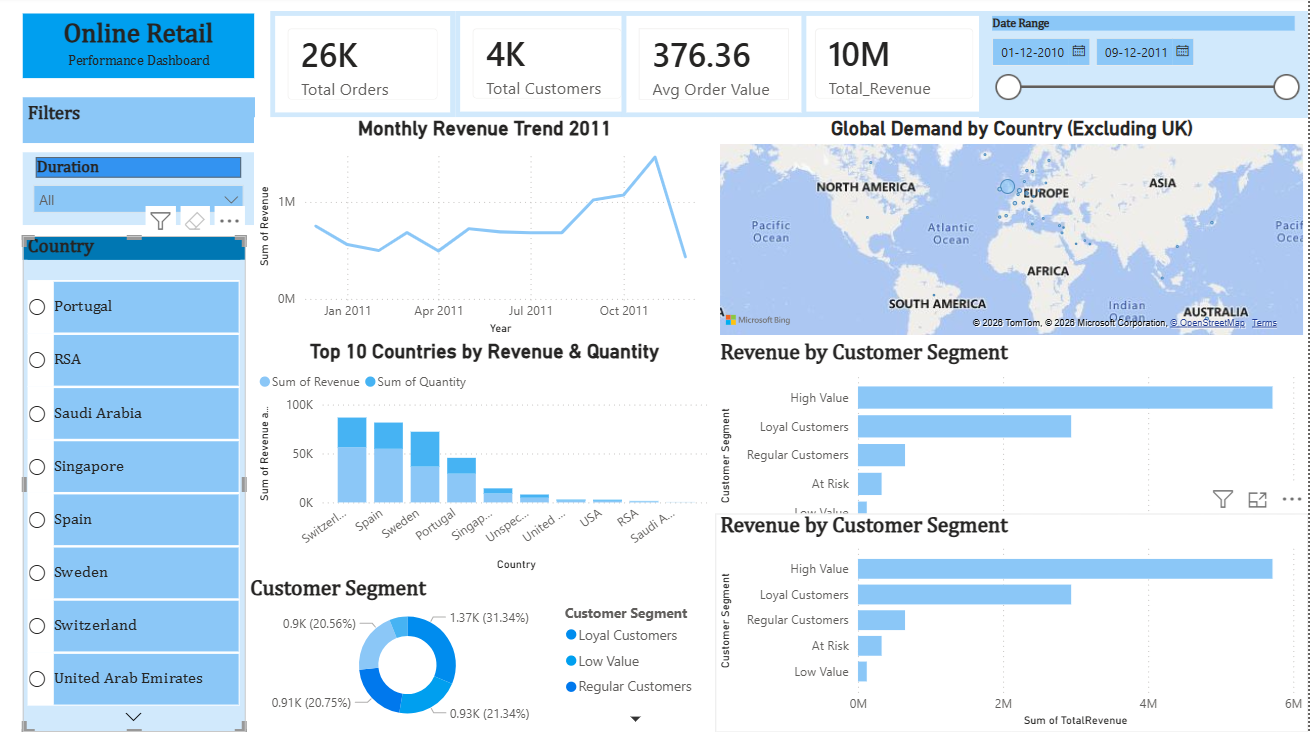

The dashboard page shown, as its layout file describes it:
{"tool":"powerbi","page":{"name":"Page 6","canvas":[1280,720],"ordinal":8},"visuals":[{"type":"textbox","box":[23.2,17.1,226.2,63.6],"z":1},{"type":"slicer","fields":{"Values":["Online Retail.InvoiceDate.Variation.Date Hierarchy.Year","Online Retail.InvoiceDate.Variation.Date Hierarchy.Quarter","Online Retail.InvoiceDate.Variation.Date Hierarchy.Month","Online Retail.InvoiceDate.Variation.Date Hierarchy.Day"]},"box":[23.2,152.9,226.2,70.9],"z":2},{"type":"textbox","box":[22.9,98.9,226.8,44.6],"z":3},{"type":"listSlicer","fields":{"Values":["Online Retail.Country"]},"box":[23.2,234.8,217.7,485.5],"z":4},{"type":"cardVisual","fields":{"Data":["Online Retail.Total_Revenue"]},"box":[781.5,14.8,189.4,103.8],"z":5},{"type":"cardVisual","fields":{"Data":["Online Retail.Total Orders"]},"box":[265.1,14.9,181.1,104.3],"z":6},{"type":"cardVisual","fields":{"Data":["Online Retail.Total Customers"]},"box":[446.3,14.7,181,103.9],"z":7},{"type":"cardVisual","fields":{"Data":["Online Retail.Avg Order Value"]},"box":[609.5,14.9,181.1,104.3],"z":8},{"type":"lineChart","title":"Monthly Revenue Trend 2011","fields":{"Y":["Sum(Online Retail.Revenue)"],"Category":["Online Retail.InvoiceDate.Variation.Date Hierarchy.Year","Online Retail.InvoiceDate.Variation.Date Hierarchy.Quarter","Online Retail.InvoiceDate.Variation.Date Hierarchy.Month","Online Retail.InvoiceDate.Variation.Date Hierarchy.Day"]},"box":[249.5,118.6,451.2,217.7],"z":9},{"type":"map","title":"Global Demand by Country (Excluding UK)","fields":{"Category":["Online Retail.Country"],"Size":["Sum(Online Retail.Quantity)"]},"box":[700.7,118.6,579.6,217.7],"z":10},{"type":"columnChart","title":"Top 10 Countries by Revenue & Quantity","fields":{"Category":["Online Retail.Country"],"Y":["Sum(Online Retail.Revenue)","Sum(Online Retail.Quantity)"]},"box":[249.5,336.3,451.2,231.1],"z":11},{"type":"donutChart","title":"Customer Segment","fields":{"Category":["Customer Summary.Customer Segment"],"Y":["CountNonNull(Customer Summary.CustomerID)"]},"box":[240.9,567.4,453.7,152.9],"z":13},{"type":"barChart","title":"Revenue by Customer Segment","fields":{"Category":["Customer Summary.Customer Segment"],"Y":["Sum(Customer Summary.TotalRevenue)"]},"box":[700.7,336.3,579.6,231.1],"z":14},{"type":"barChart","title":"Revenue by Customer Segment","fields":{"Category":["Customer Summary.Customer Segment"],"Y":["Sum(Customer Summary.TotalRevenue)"]},"box":[700.7,506.3,579.6,214],"z":15},{"type":"slicer","fields":{"Values":["Online Retail.InvoiceDate"]},"box":[958.7,14.7,321.6,103.9],"z":16}]}

Visuals, with their boxes in screenshot pixels (x1, y1, x2, y2), scaled from the page's 1280x720 canvas onto the 1310x732 screenshot:
textbox: <region>24, 17, 255, 82</region>
slicer - Online Retail.InvoiceDate.Variation.Date Hierarchy.Year x Online Retail.InvoiceDate.Variation.Date Hierarchy.Quarter: <region>24, 155, 255, 228</region>
textbox: <region>23, 101, 256, 146</region>
listSlicer - Online Retail.Country: <region>24, 239, 247, 731</region>
cardVisual - Online Retail.Total_Revenue: <region>800, 15, 994, 121</region>
cardVisual - Online Retail.Total Orders: <region>271, 15, 457, 121</region>
cardVisual - Online Retail.Total Customers: <region>457, 15, 642, 121</region>
cardVisual - Online Retail.Avg Order Value: <region>624, 15, 809, 121</region>
"Monthly Revenue Trend 2011" lineChart: <region>255, 121, 717, 342</region>
"Global Demand by Country (Excluding UK)" map: <region>717, 121, 1309, 342</region>
"Top 10 Countries by Revenue & Quantity" columnChart: <region>255, 342, 717, 577</region>
"Customer Segment" donutChart: <region>247, 577, 711, 731</region>
"Revenue by Customer Segment" barChart: <region>717, 342, 1309, 577</region>
"Revenue by Customer Segment" barChart: <region>717, 515, 1309, 731</region>
slicer - Online Retail.InvoiceDate: <region>981, 15, 1309, 121</region>
